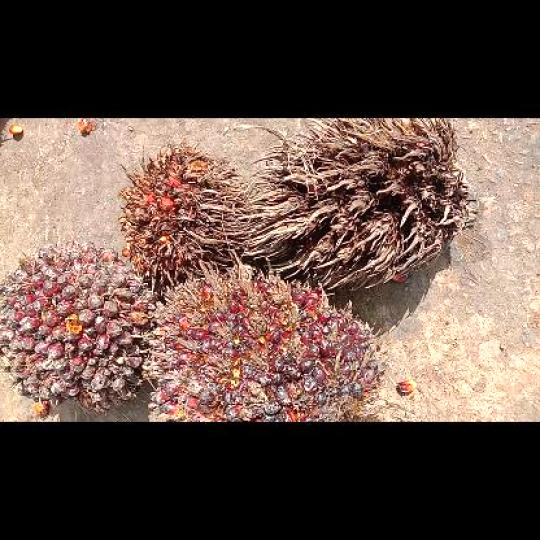kurang masak: (1, 242, 160, 411)
masak: (148, 260, 388, 420)
terlalu masak: (116, 142, 247, 284)
